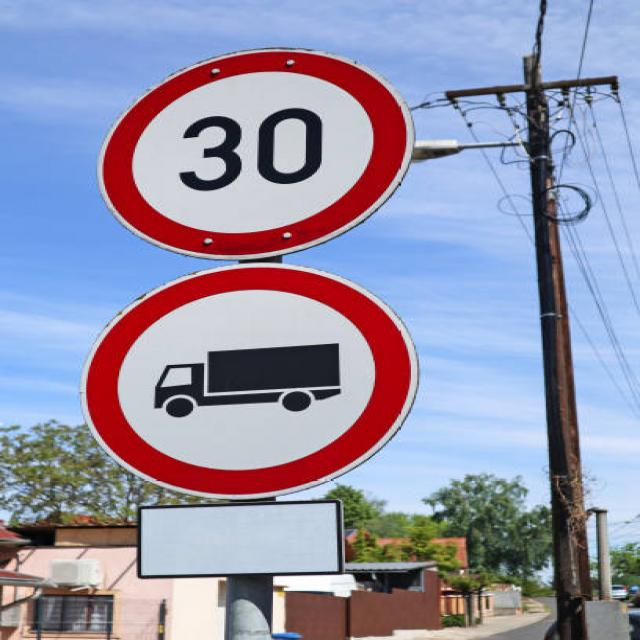speed_limit_30: (68, 46, 458, 260)
